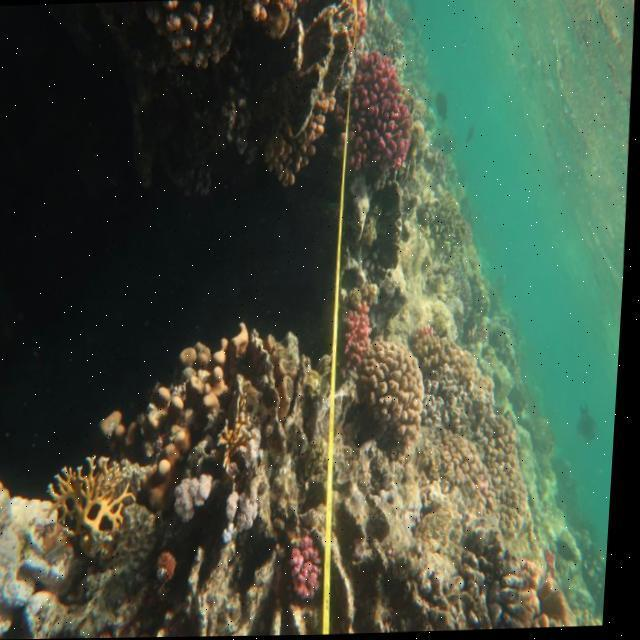Healthy Coral: (340, 42, 426, 185), (47, 448, 136, 558), (292, 530, 335, 608), (344, 301, 380, 372)
